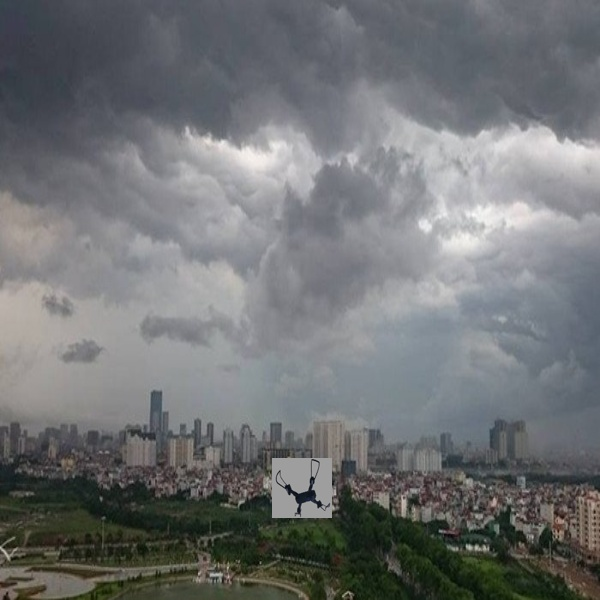drone: (272, 456, 333, 521)
